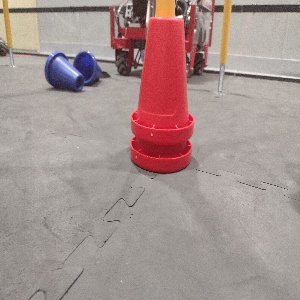Blue_1: (40, 49, 84, 93), (72, 50, 103, 84)
Red_2: (129, 15, 194, 174)
